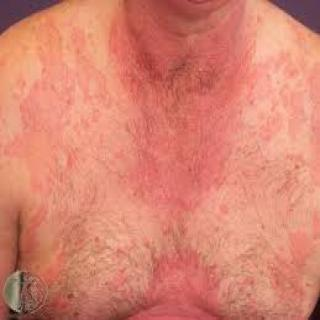urticaria: (115, 22, 244, 209), (54, 214, 171, 307), (177, 231, 315, 307), (6, 94, 91, 184), (30, 24, 109, 119)
